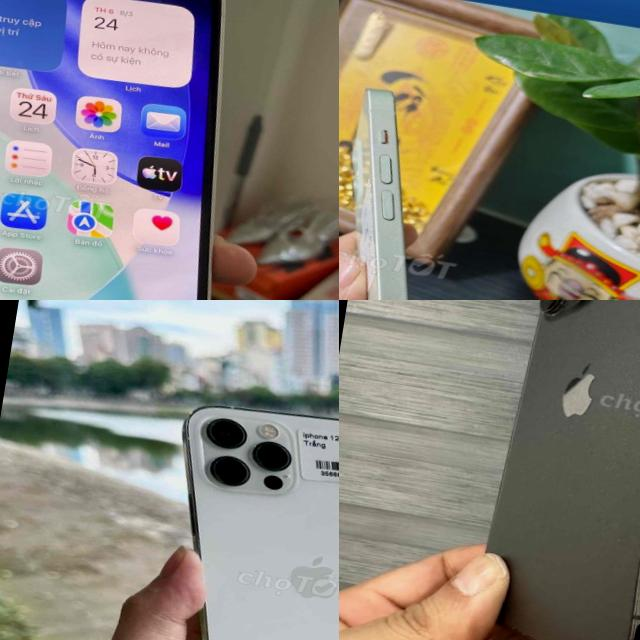gen_12_13: (468, 300, 640, 640), (110, 387, 339, 640), (339, 78, 490, 300)
gen_14: (0, 0, 275, 300)
